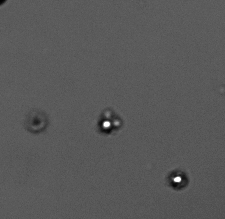Dead Cell: (26, 111, 46, 133)
Living Cell: (168, 170, 189, 189), (98, 115, 113, 134)
